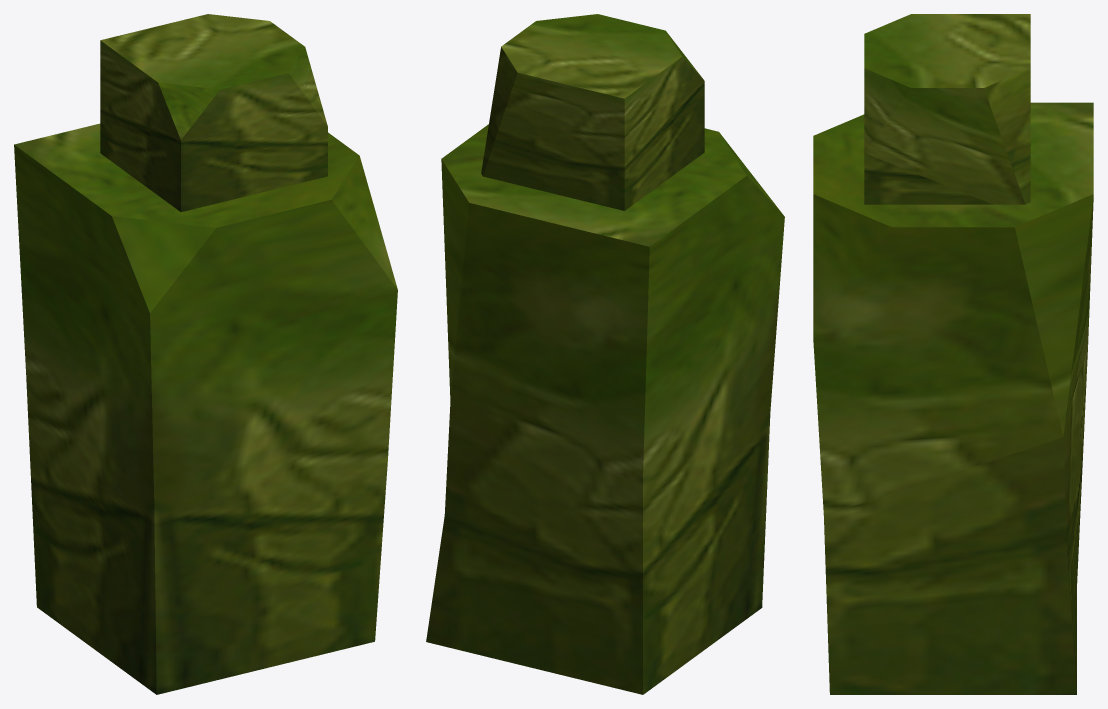
File: stone03.fbx
3 views of the same model, side by side, from view 1: azimuth 30°, elevation 25°; view 2: azimuth 150°, elevation 25°; view 3: azimuth 270°, elevation 25° (orthographic). The views are drawn at different scales.
Visible parts, largest first — view 1: stone03; view 2: stone03; view 3: stone03.
Part boxes in pixels (x1,y1,x2,y2): stone03: (14, 14, 397, 694); stone03: (426, 14, 784, 694); stone03: (813, 14, 1093, 694).
Size of the model in its own units: 113 by 250 by 108.
